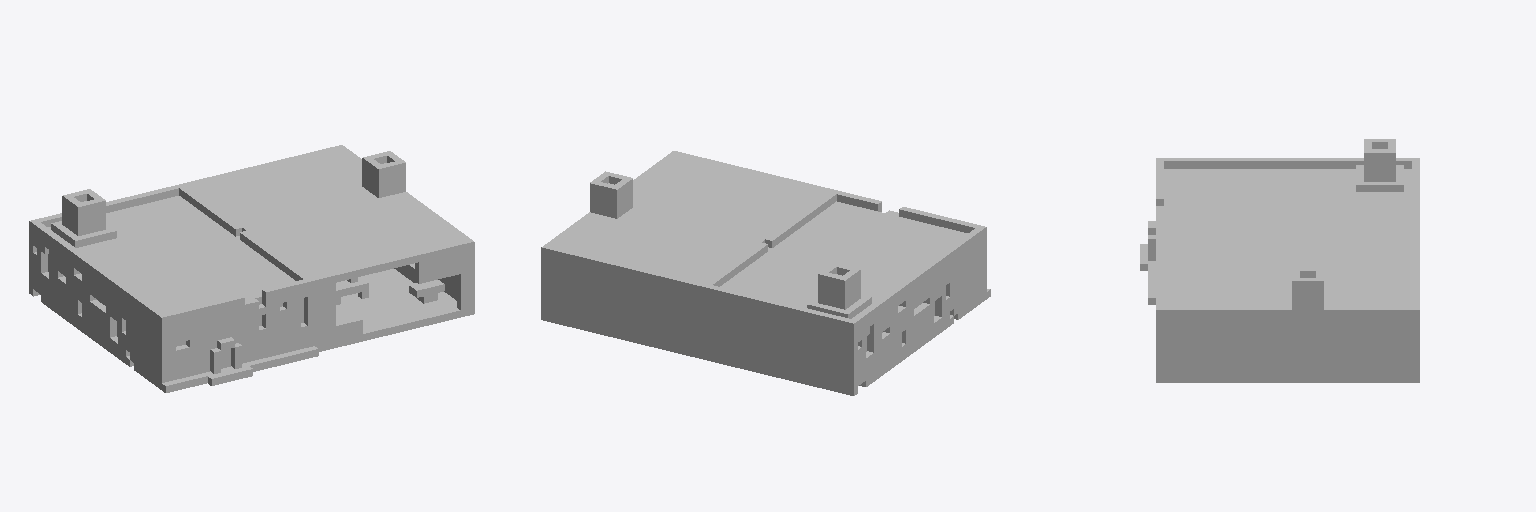
Rendered from blacksmith t1.obj.
3 views of the same model, side by side, from view 1: azimuth 30°, elevation 25°; view 2: azimuth 150°, elevation 25°; view 3: azimuth 270°, elevation 25° (orthographic).
Parts seen in each view (by area): view 1: object 1; view 2: object 1; view 3: object 1.
Boxes of the visible parts, x1,y1,x2,y2 form: object 1: [29, 145, 474, 392]; object 1: [541, 151, 990, 395]; object 1: [1140, 139, 1419, 382].
Size of the model in its own units: 4.5 by 1.4 by 3.5.